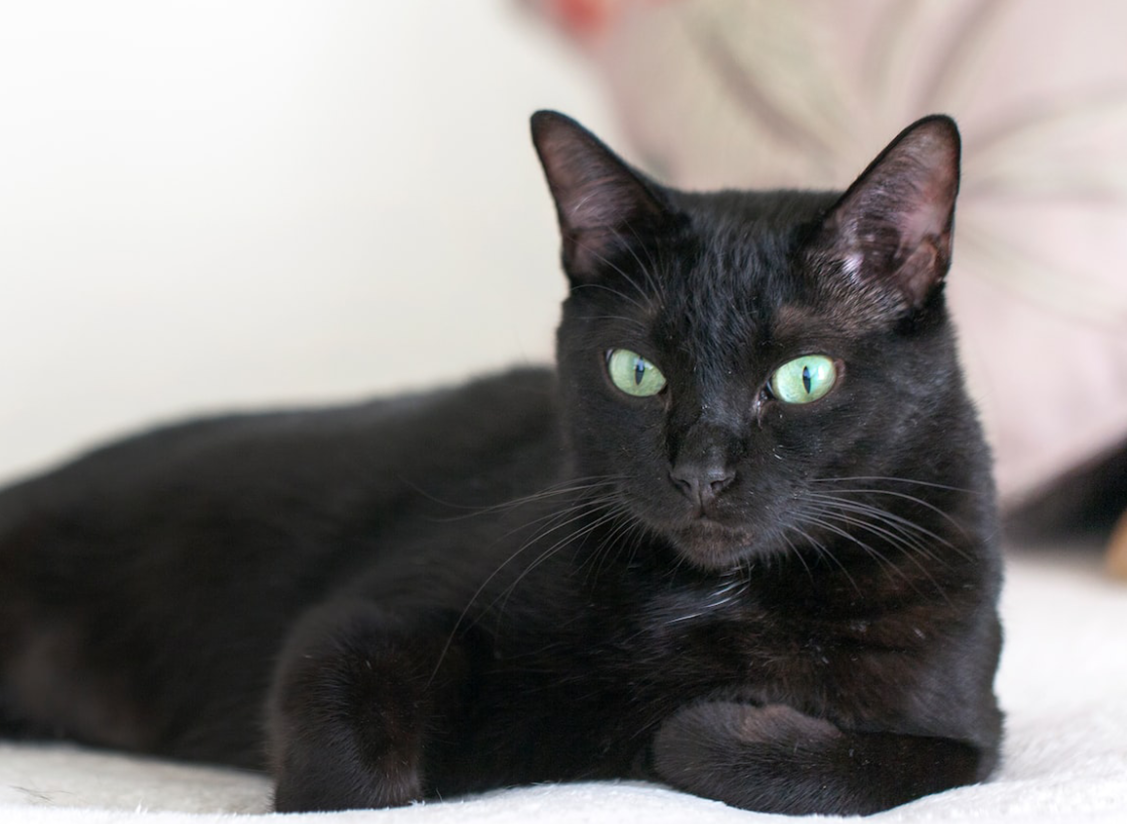gato: (296, 80, 1036, 811)
